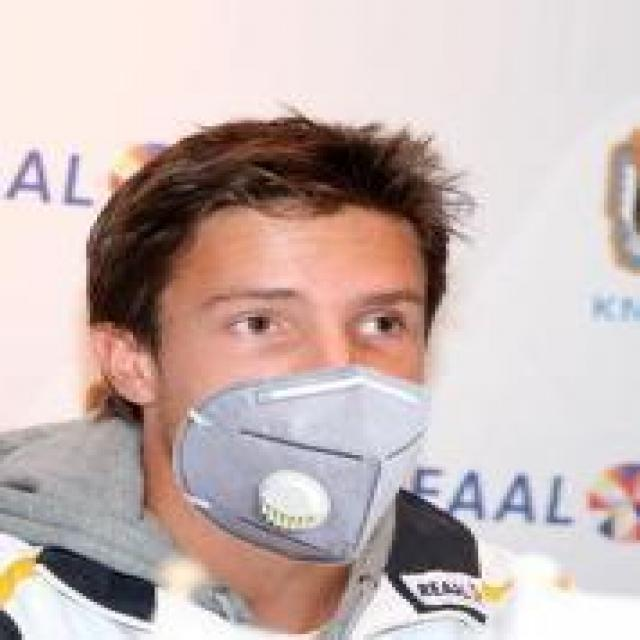mask: (79, 79, 478, 567)
